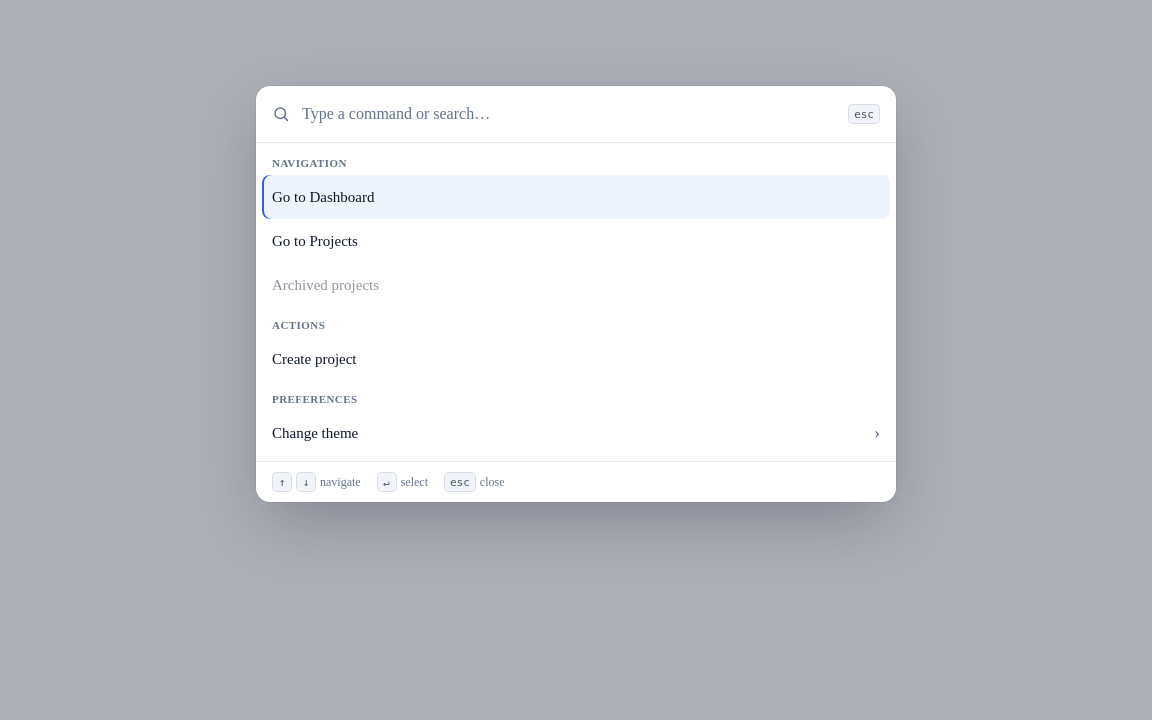
Scenario: search › shows the empty state
Type "zzzz" into the dropdown with placeholder "Type a command or search…".
click(569, 114); type("zzzz")  # box [300,86,838,142]
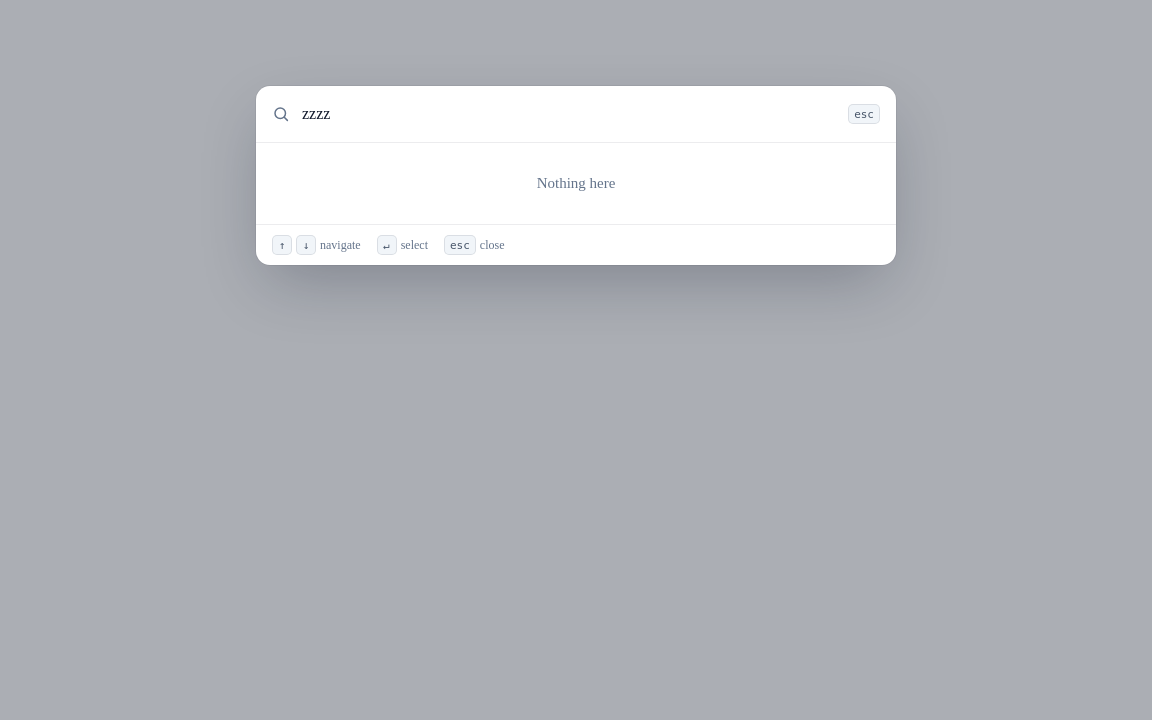
Result: no options are shown
Result: the text "Nothing here" is shown at [537,175,615,191]
